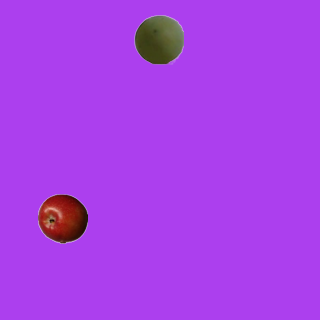Apple Braeburn: (37, 193, 87, 243)
Grape White 4: (133, 14, 183, 64)
